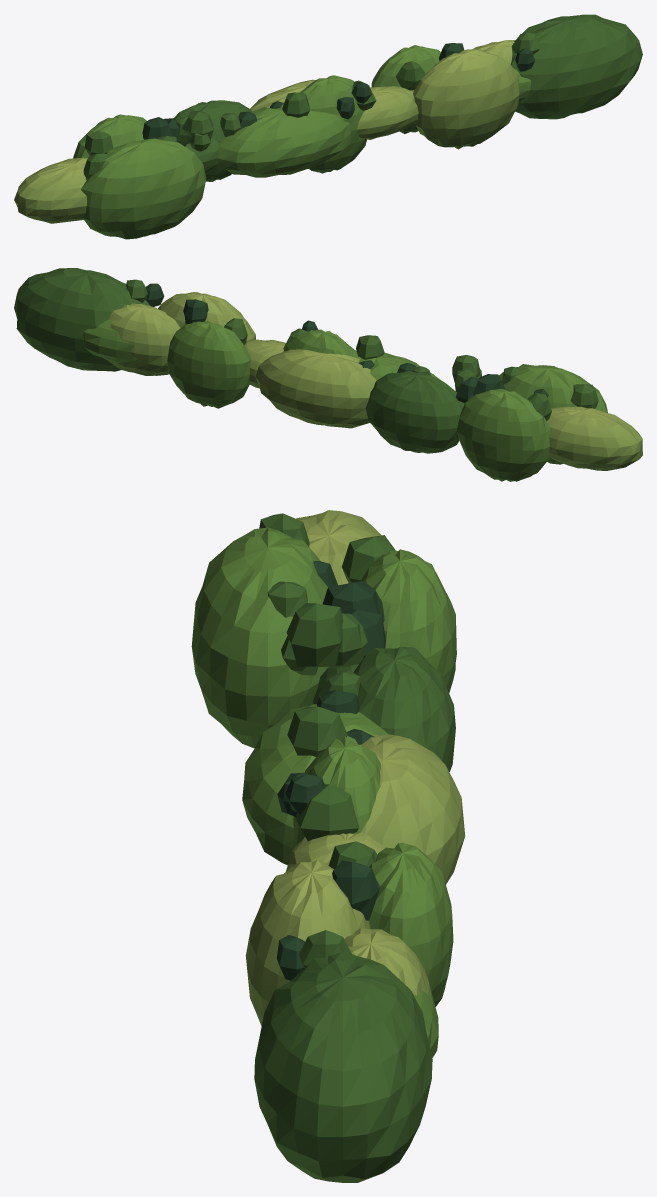
File: hills.glb
3 views of the same model, one above another, from view 1: azimuth 30°, elevation 25°; view 2: azimuth 150°, elevation 25°; view 3: azimuth 270°, elevation 25° (orthographic). The views are drawn at different scales.
Visible parts, largest first — view 1: hills; view 2: hills; view 3: hills.
Part boxes in pixels (box(x1,y1,x2,y2)): hills: box(14, 14, 642, 239); hills: box(14, 268, 642, 481); hills: box(191, 510, 465, 1182).
Size of the model in its own units: 111 by 16.62 by 21.26.
